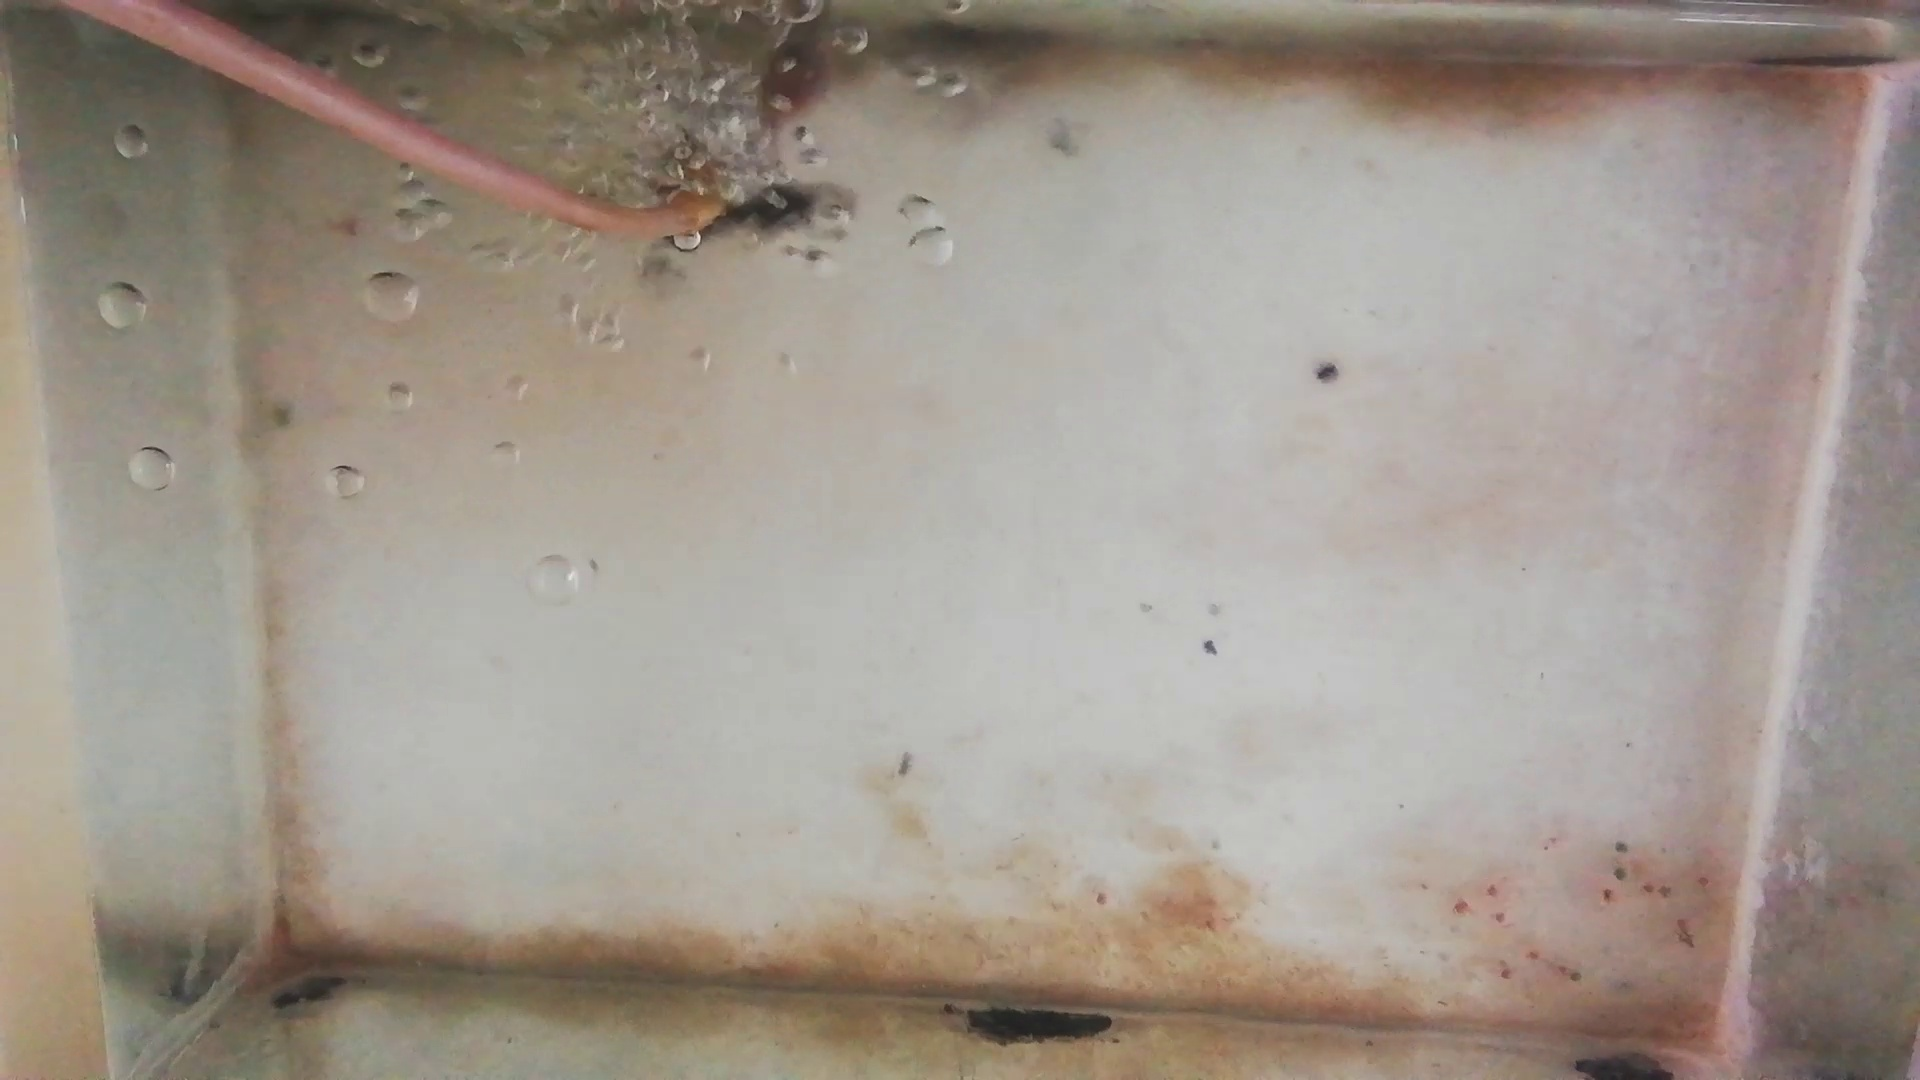fish: (716, 179, 861, 251), (736, 42, 833, 145)
